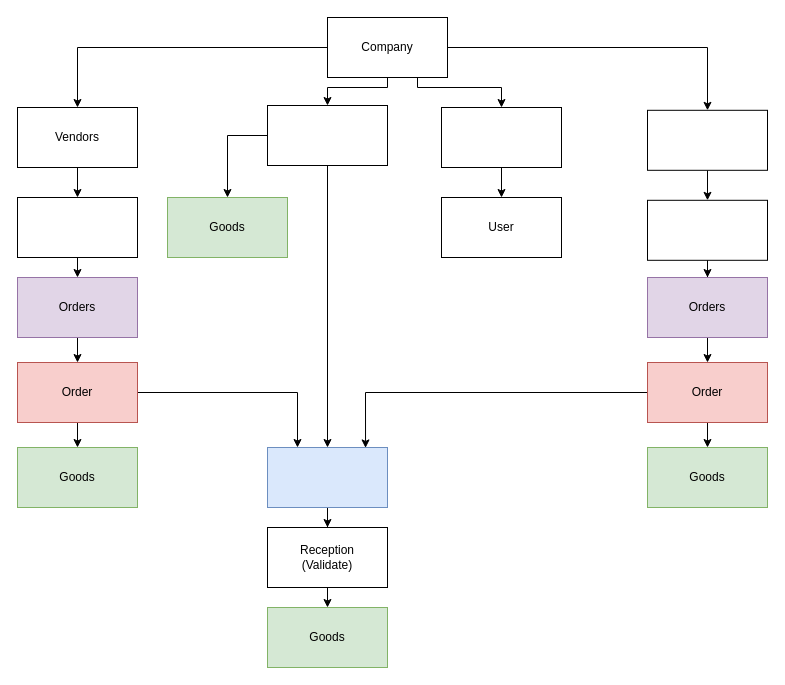
Some shapes in this 785 by 685 pixel diagram are drawn without their labels. The centre of each missing label's shape, as x and y in pixels:
"Customer" belongs at (x=707, y=229).
"Customers" belongs at (x=707, y=139).
"Receptions" belongs at (x=327, y=477).
"Users" belongs at (x=501, y=137).
"Vendor" belongs at (x=77, y=227).
"Warehouse" belongs at (x=327, y=135).
